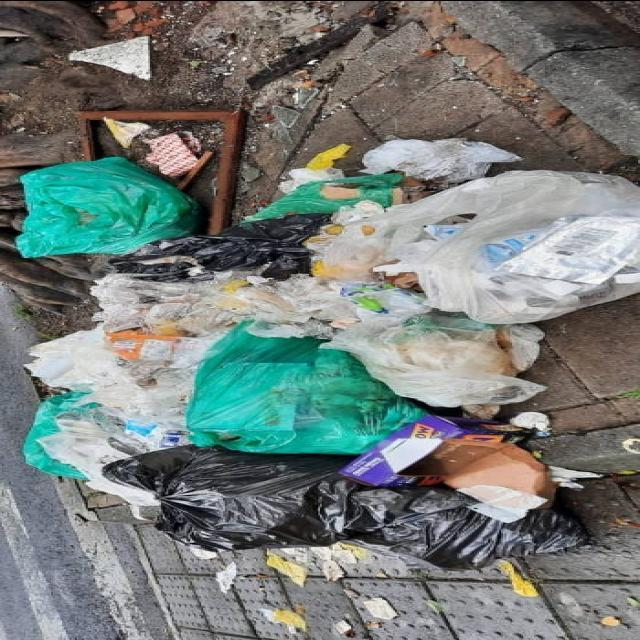Trashbag: (93, 443, 358, 556), (316, 475, 592, 571), (105, 210, 333, 298)
